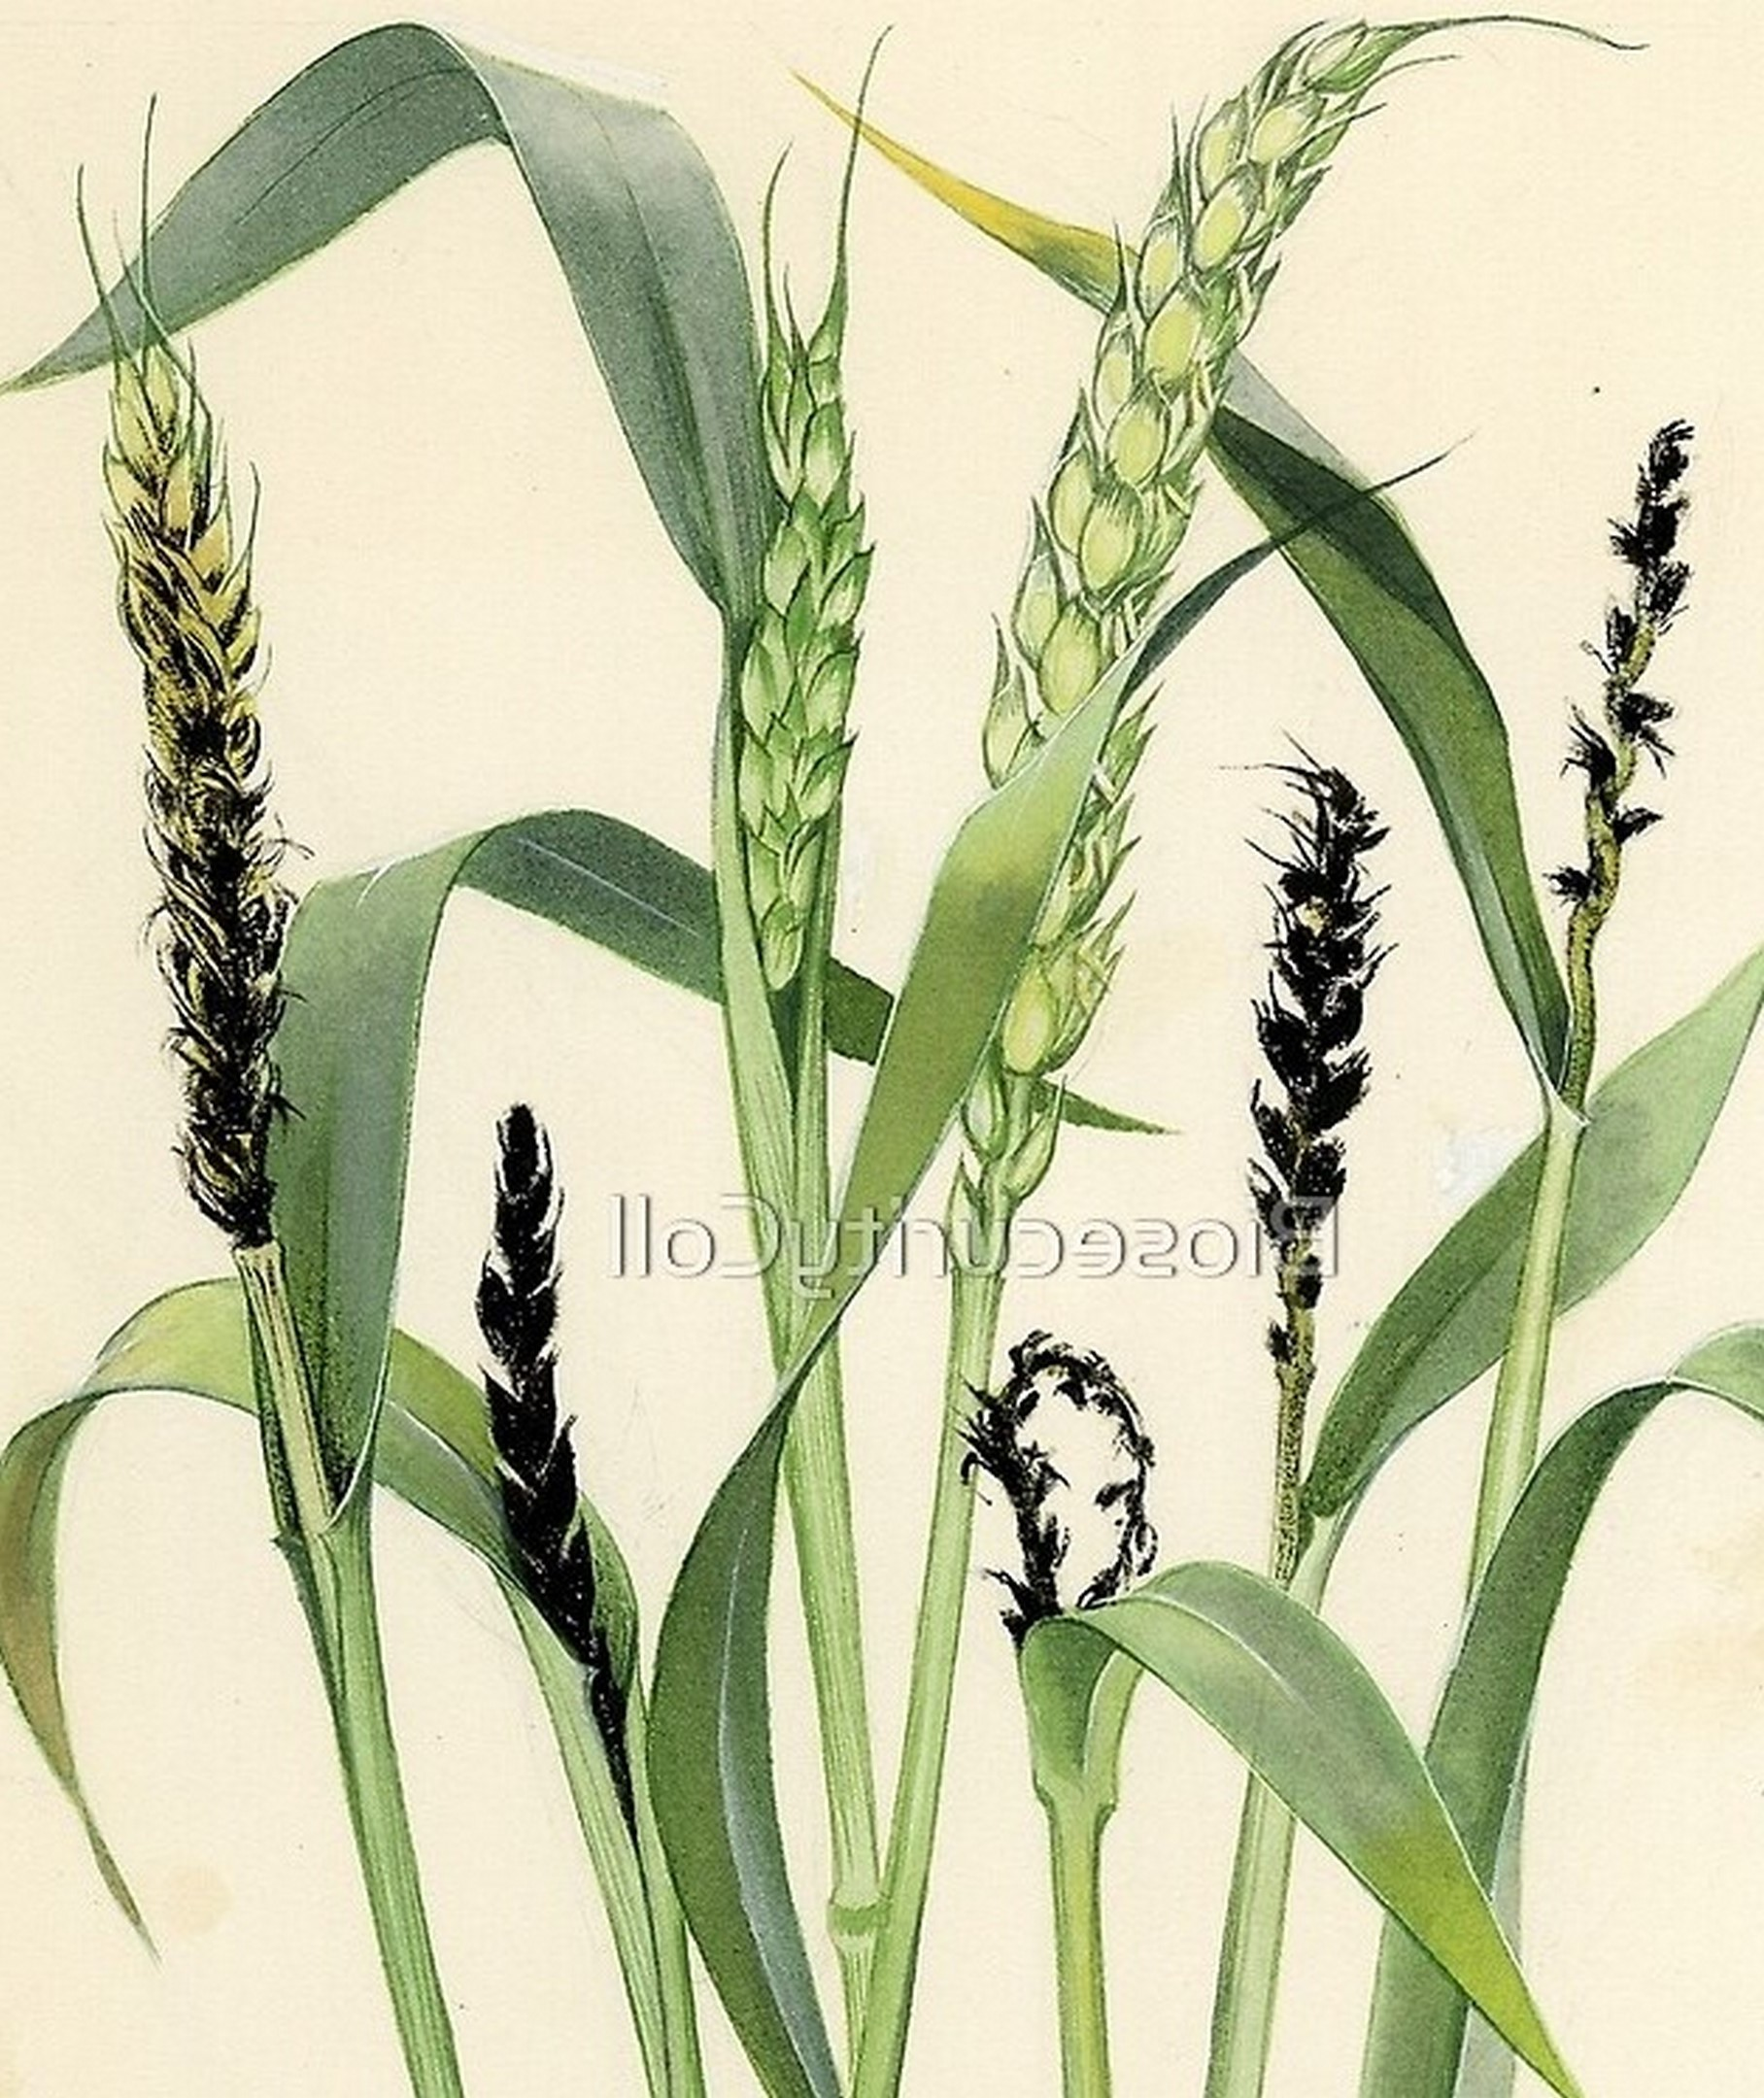Wheat Loose Smut: (1211, 721, 1407, 1230), (450, 1085, 614, 1584)
